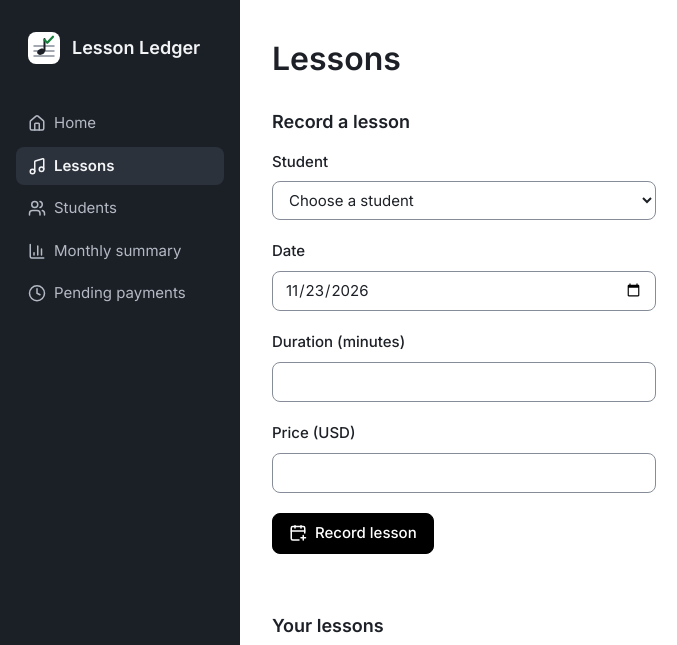
Test case: AC-3 lesson form errors › rejects no student without a request
Expected: the heading "Lessons" is shown, [272,39,401,78]
Type "2026-11-03" into the date field labelled "Date". click: (464, 291)
box: [272,271,656,311]
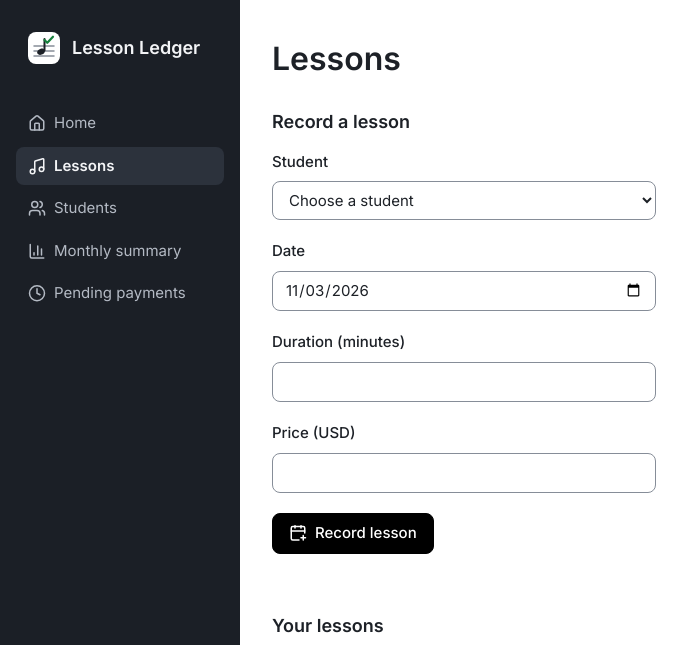
Type "45" into the field labelled "Duration (minutes)". click: (464, 382)
box: [272,362,656,402]
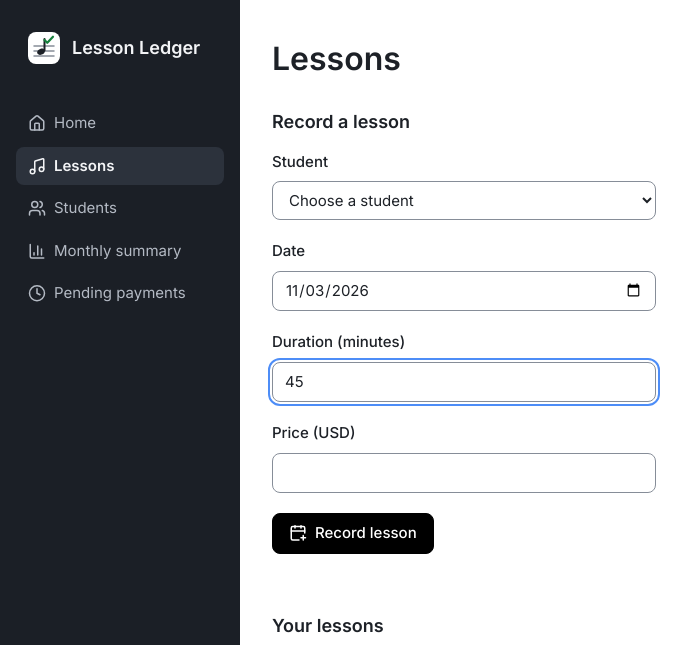
Type "42.5" into the field labelled "Price (USD)". click: (464, 473)
box: [272,453,656,493]
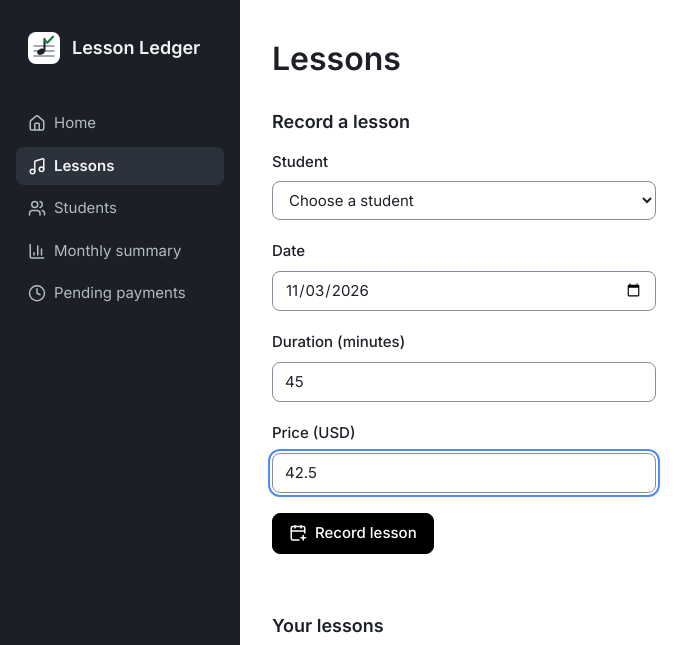
Click the button "Record lesson". click: (353, 533)
box: [272,513,434,554]
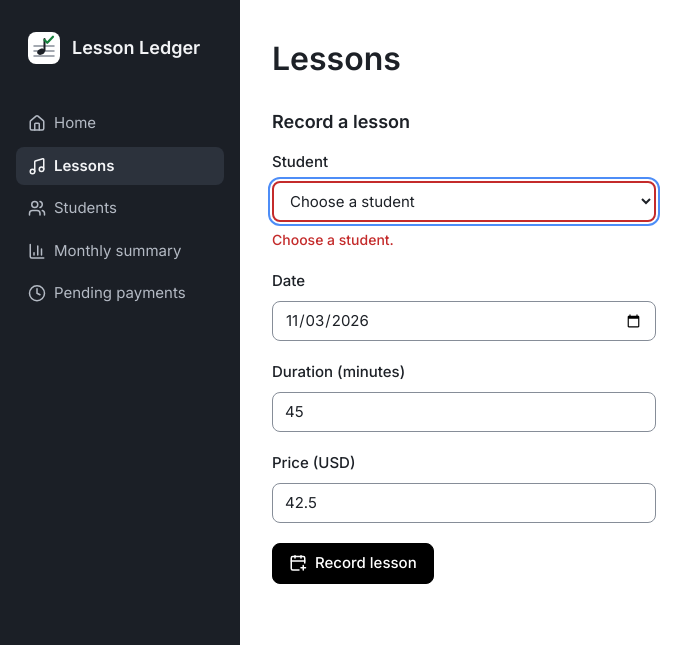
Select "Zoe Park" in the dropdown labelled "Student". click: (464, 202)
box: [272,181,656,222]
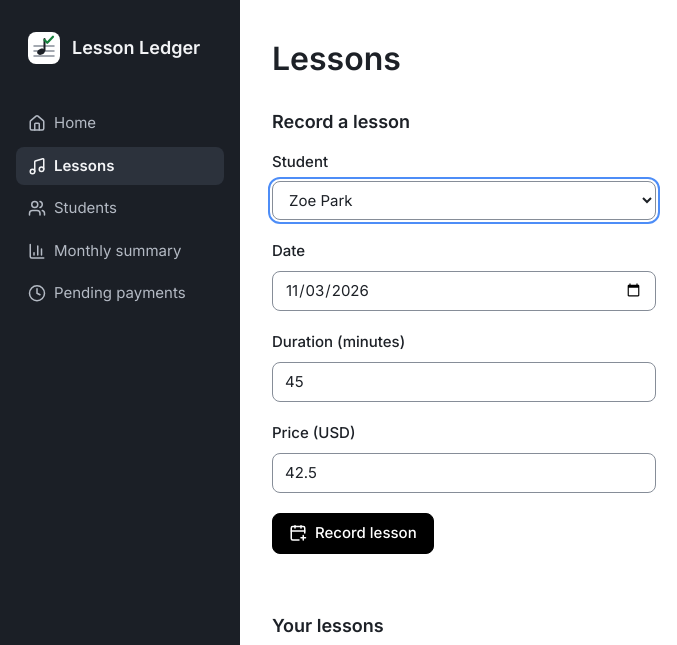
Now the text "Choose a student." is gone
